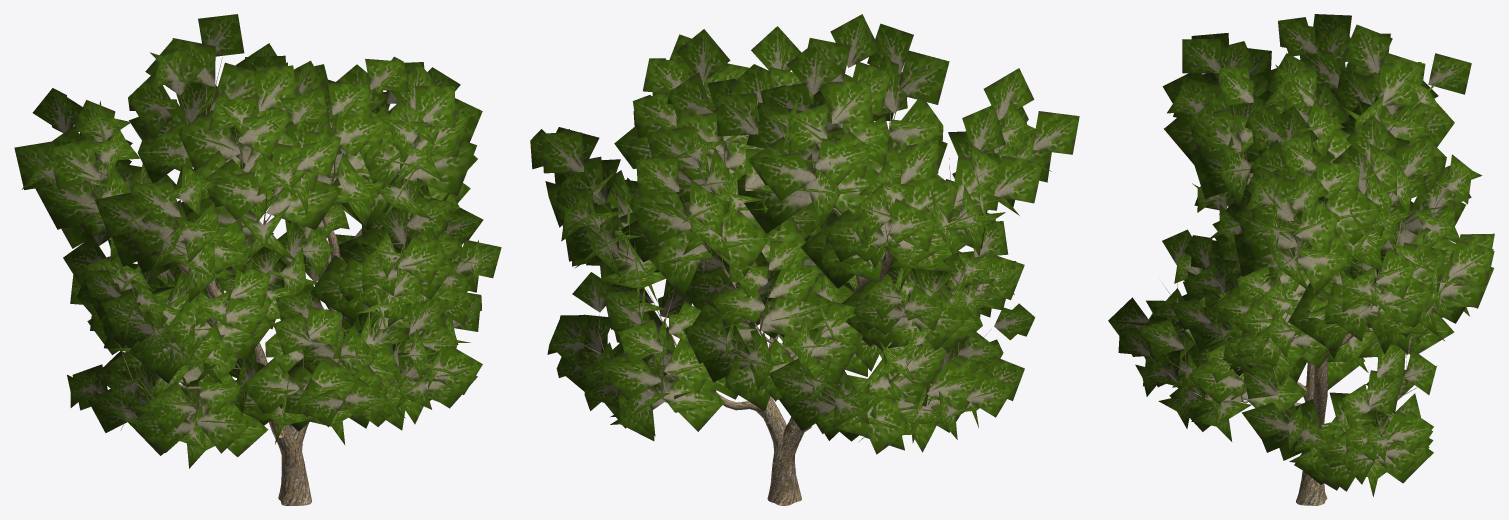
The model's file is oak.fbx.
3 views of the same model, side by side, from view 1: azimuth 30°, elevation 25°; view 2: azimuth 150°, elevation 25°; view 3: azimuth 270°, elevation 25° (orthographic). The views are drawn at different scales.
Visible parts, largest first — view 1: oak leaf_2, mossybark02_0; view 2: oak leaf_2, mossybark02_0; view 3: oak leaf_2, mossybark02_0.
Boxes of the visible parts, left/top/right/bottom form: oak leaf_2: left=14, top=14, right=501, bottom=468; mossybark02_0: left=51, top=49, right=467, bottom=505; oak leaf_2: left=530, top=14, right=1079, bottom=454; mossybark02_0: left=566, top=72, right=1007, bottom=505; oak leaf_2: left=1108, top=14, right=1494, bottom=496; mossybark02_0: left=1150, top=55, right=1449, bottom=505.
Bounding box in the file's own units: 1530 × 1426 × 1175.
Materials: 3 (3 with a texture image).
